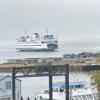Boat: (13, 29, 59, 54)
